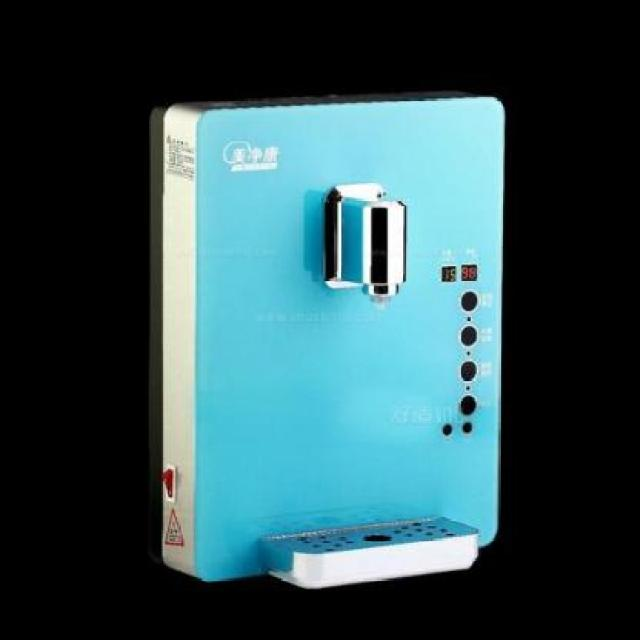cooler: (143, 82, 508, 592)
